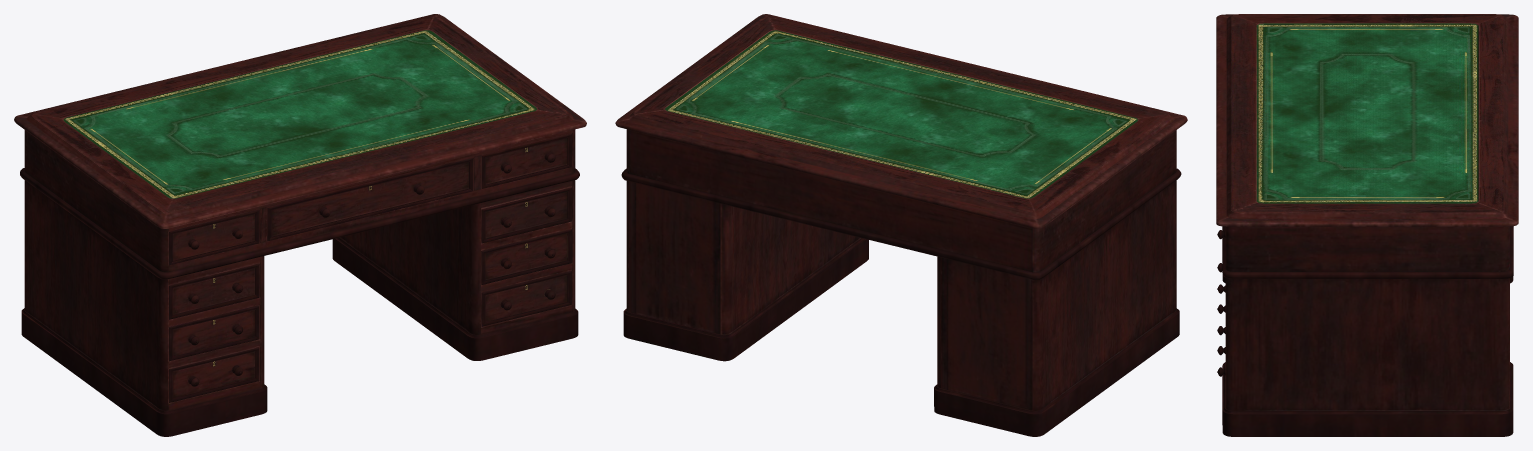
Rendered from desk.glb.
3 views of the same model, side by side, from view 1: azimuth 30°, elevation 25°; view 2: azimuth 150°, elevation 25°; view 3: azimuth 270°, elevation 25° (orthographic).
Visible parts, largest first — view 1: Desk_table; view 2: Desk_table; view 3: Desk_table.
Part boxes in pixels (<box>): Desk_table: <box>14,14,586,436</box>; Desk_table: <box>615,14,1187,436</box>; Desk_table: <box>1216,14,1518,436</box>.
Size of the model in its own units: 1.55 by 0.761 by 0.944.
Materials: 1 (1 with a texture image).
